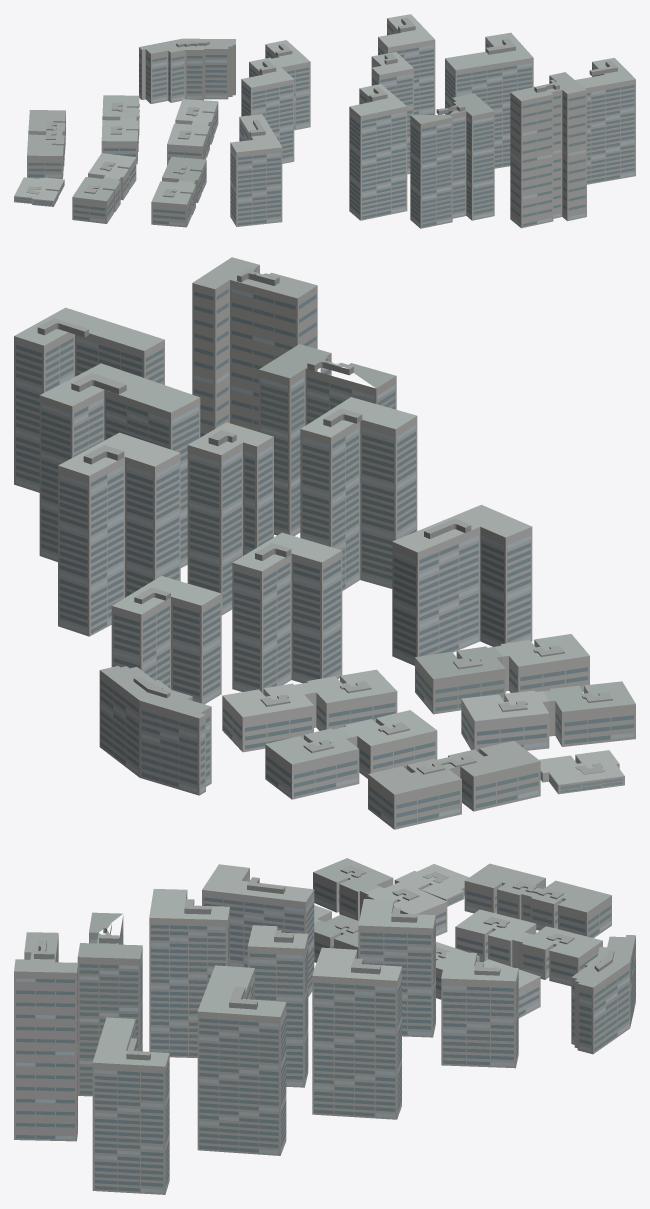
Rendered from apt-a10025770.glb.
3 views of the same model, one above another, from view 1: azimuth 30°, elevation 25°; view 2: azimuth 150°, elevation 25°; view 3: azimuth 270°, elevation 25° (orthographic). The views are drawn at different scales.
Visible parts, largest first — view 1: apt-a10025770; view 2: apt-a10025770; view 3: apt-a10025770.
Boxes of the visible parts, x1,y1,x2,y2 form: apt-a10025770: (14, 14, 635, 228); apt-a10025770: (14, 257, 635, 829); apt-a10025770: (14, 858, 635, 1194).
Bounding box in the file's own units: 327 × 82 × 266.
